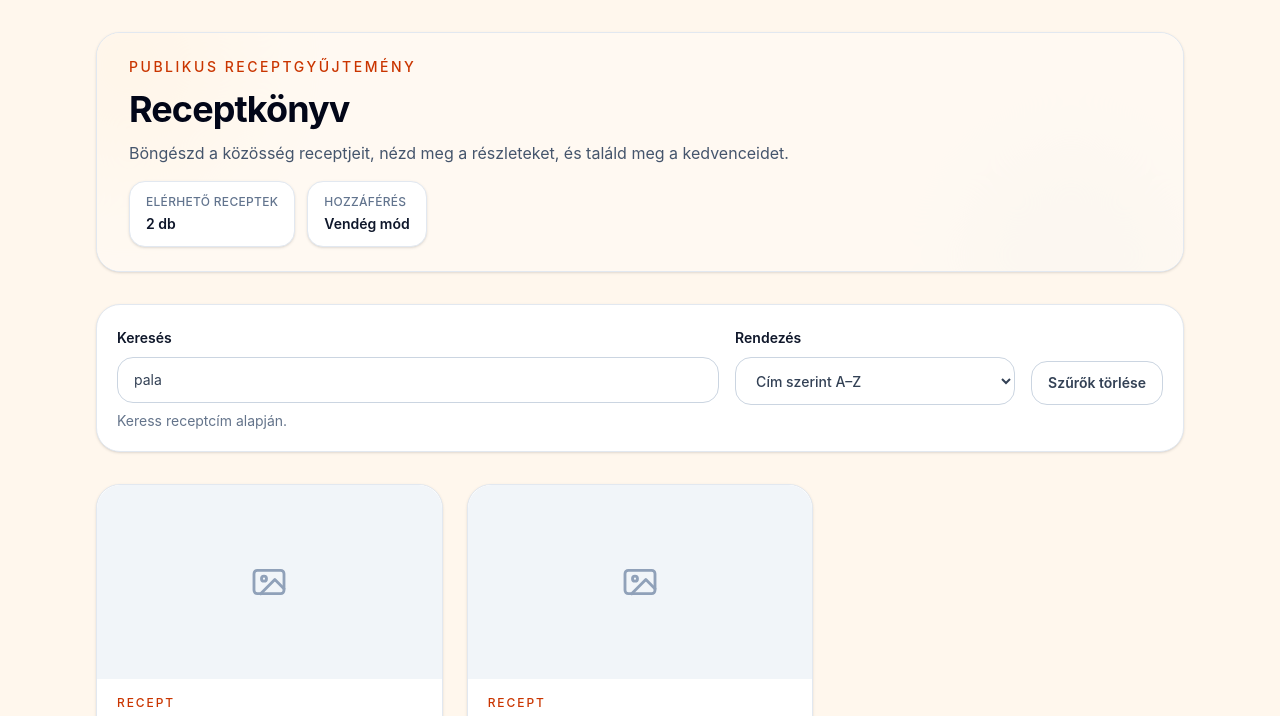
Test: RecipesPage › resets recipe list filters from the filter bar
Expected: the heading "Receptkönyv" is shown, x1=129 y1=87 x2=350 y2=131
Expected: the search field labelled "Keresés" holds "pala", x1=117 y1=357 x2=719 y2=403
Click the button "Szűrők törlése": (1097, 383) x1=1031 y1=361 x2=1163 y2=405
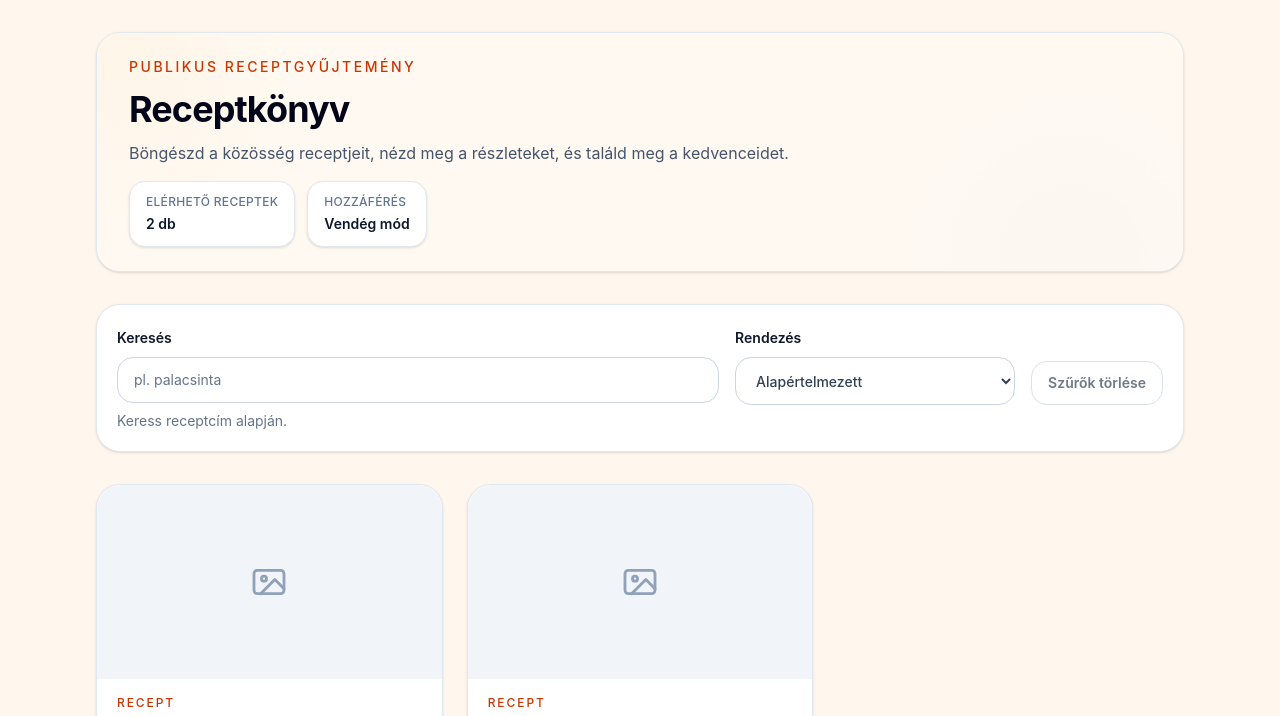
Expected: the search field labelled "Keresés" is empty, x1=117 y1=357 x2=719 y2=403
Expected: the dropdown labelled "Rendezés" shows "Alapértelmezett", x1=735 y1=357 x2=1015 y2=405
